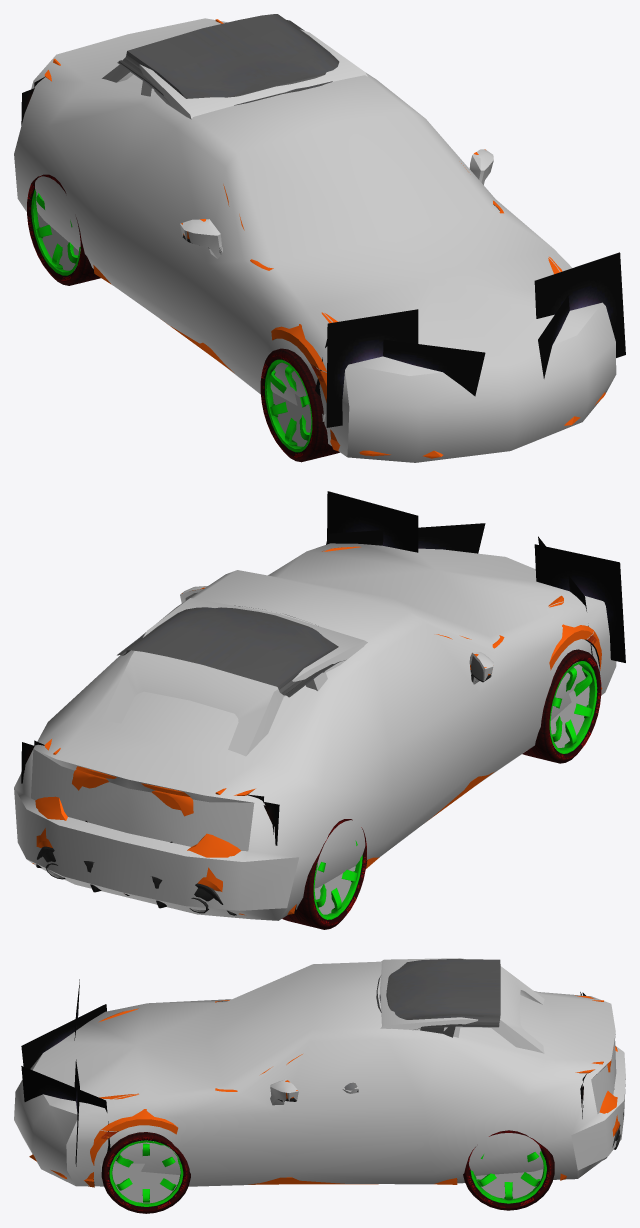
Rendered from P_car-006_Quattro2-G.fbx.
3 views of the same model, one above another, from view 1: azimuth 30°, elevation 25°; view 2: azimuth 150°, elevation 25°; view 3: azimuth 270°, elevation 25° (orthographic). The views are drawn at different scales.
Parts seen in each view (by area): view 1: M_Car-006_Shadow_Quattro2-G_01, M_Car-006_FrontFlares_Quattro2-G_01, M_Car-Interior_Details_01, M_CarWheel-002_L_AP_01 (×2), M_Car-Interior_Shadowform_01, M_Car-006_Body_Quattro2-G_01, M_CarTire-002_L_AP_01 (×2), M_CarTire-002_L_AP; view 2: M_Car-006_Shadow_Quattro2-G_01, M_Car-Interior_Details_01, M_Car-Interior_Shadowform_01, M_Car-006_FrontFlares_Quattro2-G_01, M_Car-006_Body_Quattro2-G_01, M_CarWheel-002_L_AP_01 (×2), M_CarTire-002_L_AP (×2), M_Car-006_Details_Quattro2-G_01, M_CarTire-002_L_AP_01; view 3: M_Car-006_Shadow_Quattro2-G_01, M_Car-Interior_Details_01, M_Car-Interior_Shadowform_01, M_CarWheel-002_L_AP_01 (×2), M_Car-006_FrontFlares_Quattro2-G_01, M_Car-006_Body_Quattro2-G_01, M_CarTire-002_L_AP (×2), M_CarTire-002_L_AP_01.
Boxes of the visible parts, x1=… form: M_Car-006_Shadow_Quattro2-G_01: x1=14, y1=18, x2=616, y2=462; M_Car-006_FrontFlares_Quattro2-G_01: x1=315, y1=252, x2=625, y2=427; M_Car-Interior_Details_01: x1=117, y1=14, x2=339, y2=106; M_CarWheel-002_L_AP_01 (×2): x1=27, y1=174, x2=339, y2=462; M_Car-Interior_Shadowform_01: x1=102, y1=29, x2=367, y2=119; M_Car-006_Body_Quattro2-G_01: x1=44, y1=19, x2=605, y2=458; M_CarTire-002_L_AP_01 (×2): x1=31, y1=189, x2=300, y2=434; M_CarTire-002_L_AP: x1=277, y1=377, x2=312, y2=452; M_Car-006_Shadow_Quattro2-G_01: x1=14, y1=543, x2=616, y2=920; M_Car-Interior_Details_01: x1=117, y1=605, x2=345, y2=697; M_Car-Interior_Shadowform_01: x1=102, y1=598, x2=367, y2=756; M_Car-006_FrontFlares_Quattro2-G_01: x1=326, y1=491, x2=625, y2=662; M_Car-006_Body_Quattro2-G_01: x1=32, y1=546, x2=602, y2=915; M_CarWheel-002_L_AP_01 (×2): x1=282, y1=649, x2=601, y2=929; M_CarTire-002_L_AP (×2): x1=324, y1=661, x2=597, y2=919; M_Car-006_Details_Quattro2-G_01: x1=36, y1=592, x2=599, y2=915; M_CarTire-002_L_AP_01: x1=549, y1=661, x2=584, y2=753; M_Car-006_Shadow_Quattro2-G_01: x1=14, y1=961, x2=625, y2=1203; M_Car-Interior_Details_01: x1=344, y1=959, x2=500, y2=1091; M_Car-Interior_Shadowform_01: x1=342, y1=958, x2=544, y2=1093; M_CarWheel-002_L_AP_01 (×2): x1=101, y1=1130, x2=554, y2=1213; M_Car-006_FrontFlares_Quattro2-G_01: x1=21, y1=979, x2=110, y2=1166; M_Car-006_Body_Quattro2-G_01: x1=29, y1=995, x2=619, y2=1187; M_CarTire-002_L_AP (×2): x1=128, y1=1145, x2=546, y2=1206; M_CarTire-002_L_AP_01: x1=109, y1=1140, x2=164, y2=1202.
Bounding box in the file's own units: 1.96 × 1.39 × 4.33.
